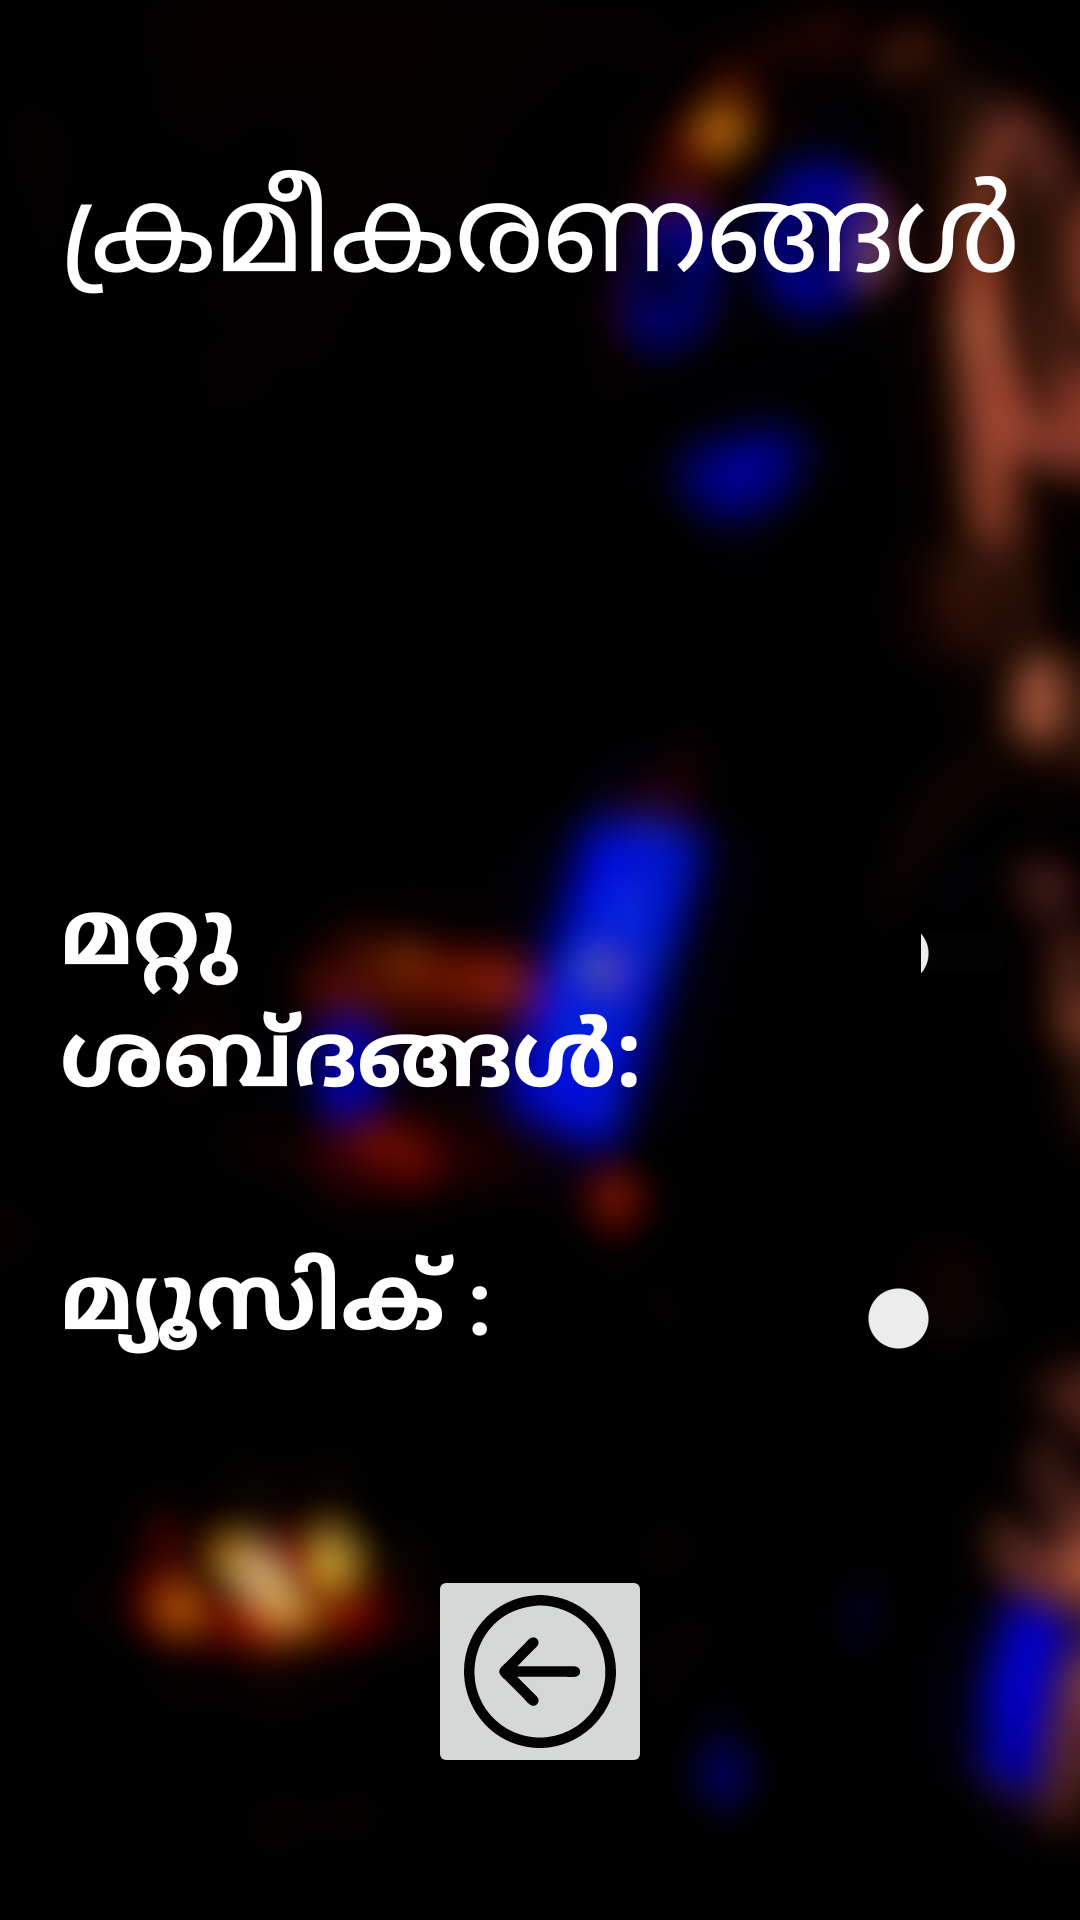

Locate icon controls on the screen. Image size 1080*1920, boxes as (x1, y1, x2, y2).
back: (440, 1583, 640, 1760)
